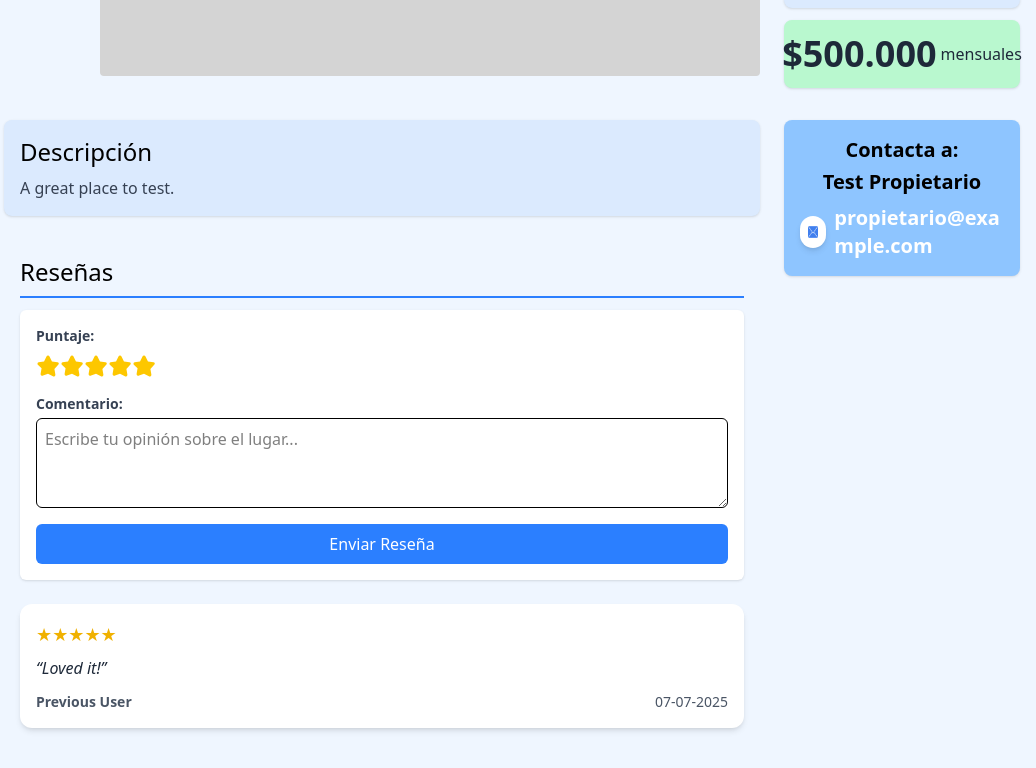
Test: Housing Detail and Review Form › when user is a student › should show an error message on submission failure
(page scrolled)
In the text box with placeholder "Escribe tu opinión sobre el lugar...": (382, 463) [36, 418, 728, 508], type "This review will fail."
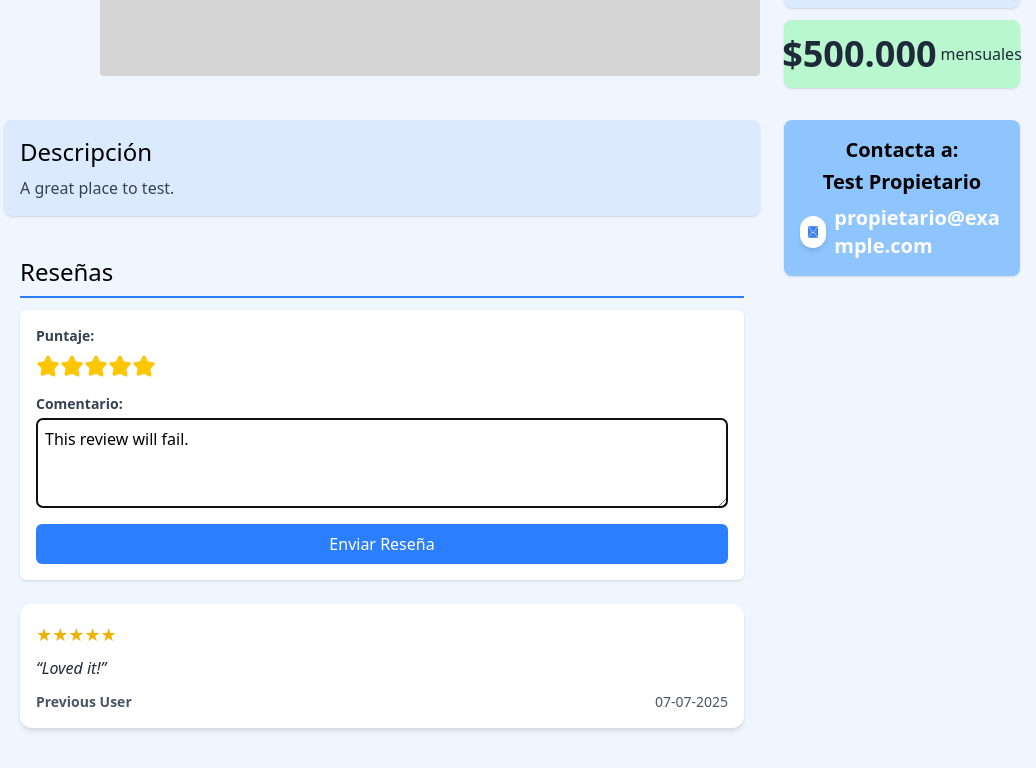
Click the button "Enviar Reseña": (382, 544) [36, 524, 728, 564]
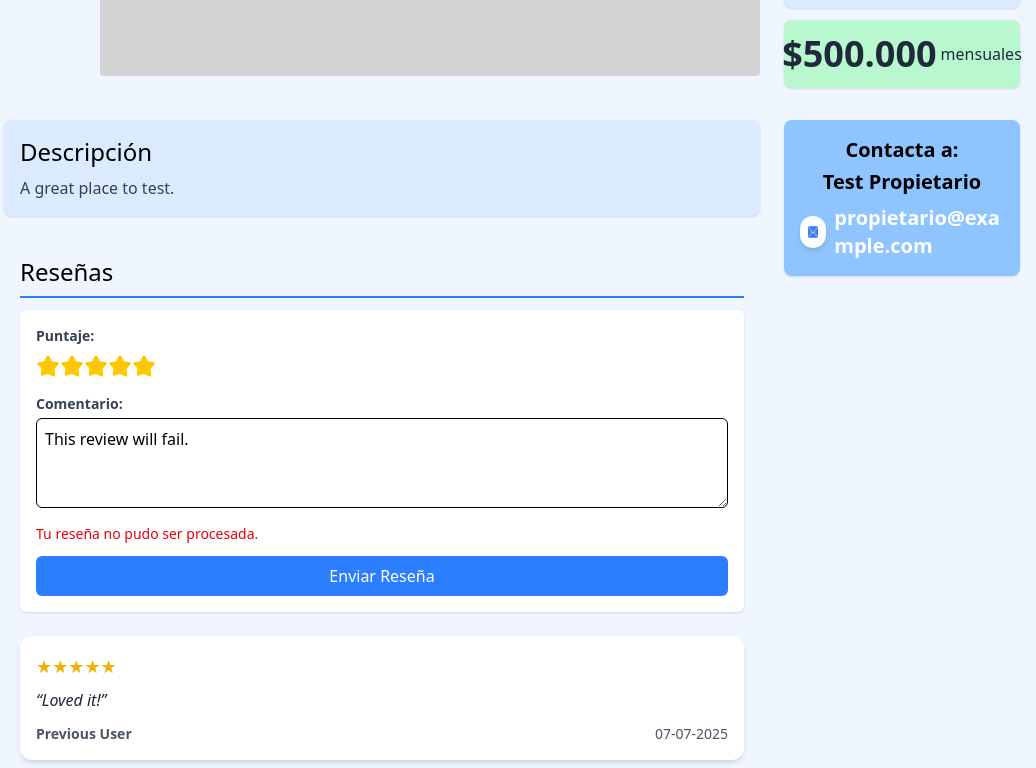
Expected: the text "Enviar Reseña" is enabled
Result: the text "Tu reseña no pudo ser procesada." is shown at [36, 524, 258, 543]
